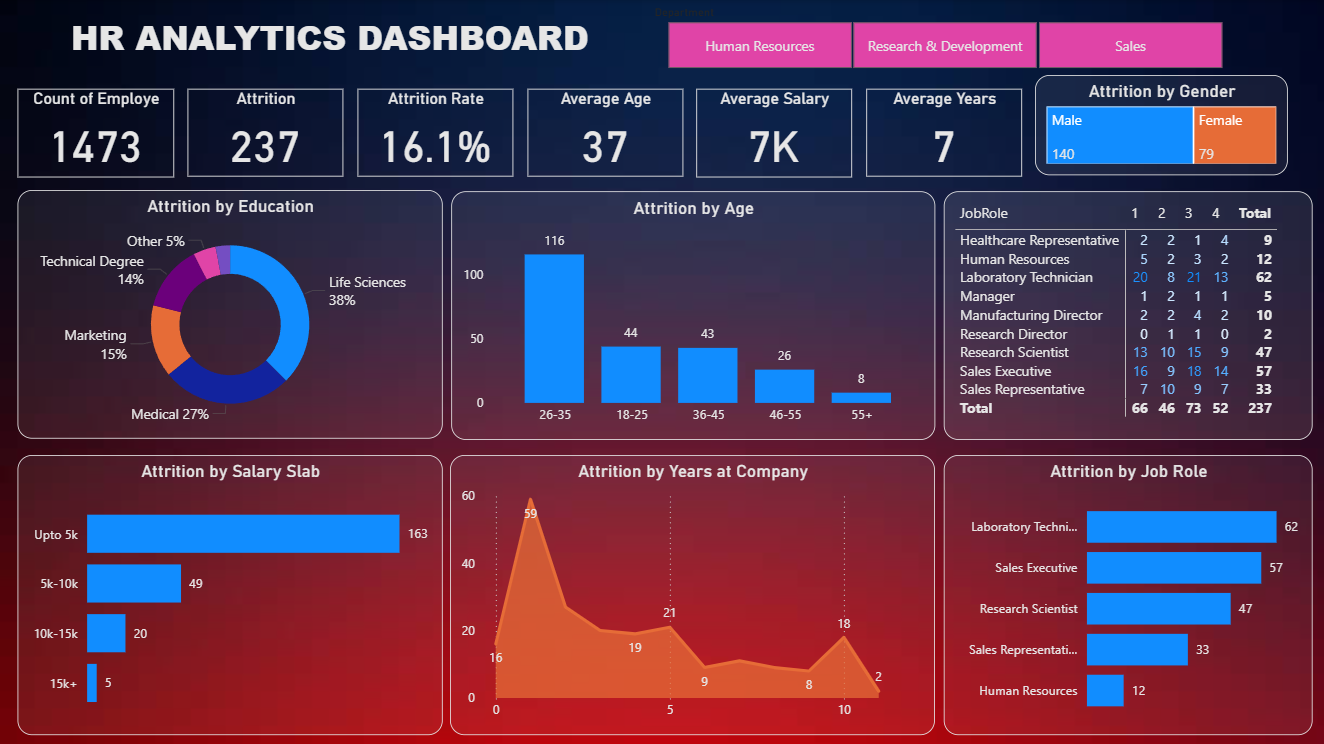

The page's visual inventory and layout, read from the dashboard file:
{"tool":"powerbi","page":{"name":"Page 1","canvas":[1280,720],"ordinal":0},"visuals":[{"type":"card","title":"Count of Employe","fields":{"Values":["CountNonNull(HR_Analytics Power BI.EmpID)"]},"box":[16.9,85.7,150.8,85.7],"z":0},{"type":"card","title":"Attrition","fields":{"Values":["Sum(HR_Analytics Power BI.AttritionCount)"]},"box":[181.4,85.3,150,85],"z":1000},{"type":"card","title":"Average Age","fields":{"Values":["Avg(HR_Analytics Power BI.Age)"]},"box":[509.4,85.3,150,85],"z":2000},{"type":"card","title":"Attrition Rate","fields":{"Values":["HR_Analytics Power BI.AttritionRate"]},"box":[345.4,85.3,150,85],"z":3000},{"type":"card","title":"Average Salary","fields":{"Values":["Avg(HR_Analytics Power BI.MonthlyIncome)"]},"box":[672,85.3,150,85.3],"z":4000},{"type":"card","title":"Average Years","fields":{"Values":["Avg(HR_Analytics Power BI.YearsAtCompany)"]},"box":[836,85.3,150,85],"z":5000},{"type":"donutChart","title":"Attrition by Education","fields":{"Category":["HR_Analytics Power BI.EducationField"],"Y":["Sum(HR_Analytics Power BI.AttritionCount)"]},"box":[17.3,183.3,410,240],"z":6000},{"type":"columnChart","title":"Attrition by Age","fields":{"Category":["HR_Analytics Power BI.AgeGroup"],"Y":["Sum(HR_Analytics Power BI.AttritionCount)"]},"box":[435.5,184.6,466.9,240.1],"z":7000},{"type":"pivotTable","fields":{"Rows":["HR_Analytics Power BI.JobRole"],"Values":["Sum(HR_Analytics Power BI.AttritionCount)"],"Columns":["HR_Analytics Power BI.JobSatisfaction"]},"box":[910.9,184.6,355.9,240.1],"z":8000},{"type":"barChart","title":"Attrition by Salary Slab","fields":{"Category":["HR_Analytics Power BI.SalarySlab"],"Y":["Sum(HR_Analytics Power BI.AttritionCount)"]},"box":[17.3,438.7,410,270],"z":9000},{"type":"barChart","title":"Attrition by Job Role","fields":{"Category":["HR_Analytics Power BI.JobRole"],"Y":["Sum(HR_Analytics Power BI.AttritionCount)"]},"box":[910.9,439.1,355.9,270.2],"z":10000},{"type":"areaChart","title":"Attrition by Years at Company","fields":{"Category":["HR_Analytics Power BI.YearsAtCompany"],"Y":["Sum(HR_Analytics Power BI.AttritionCount)"]},"box":[434.3,439.1,468.1,270.2],"z":11000},{"type":"treemap","title":"Attrition by Gender","fields":{"Group":["HR_Analytics Power BI.Gender"],"Values":["Sum(HR_Analytics Power BI.AttritionCount)"]},"box":[998.6,72.8,243.9,97],"z":12000},{"type":"slicer","fields":{"Values":["HR_Analytics Power BI.Department"]},"box":[618.3,0,584.7,72.7],"z":13000},{"type":"textbox","box":[16.8,8.4,602.9,64.3],"z":14000}]}

Visuals, with their boxes in screenshot pixels (x1, y1, x2, y2), scaled from the page's 1280x720 canvas onto the 1324x744 screenshot:
"Count of Employe" card: 17, 89, 173, 177
"Attrition" card: 188, 88, 343, 176
"Average Age" card: 527, 88, 682, 176
"Attrition Rate" card: 357, 88, 512, 176
"Average Salary" card: 695, 88, 850, 176
"Average Years" card: 865, 88, 1020, 176
"Attrition by Education" donutChart: 18, 189, 442, 437
"Attrition by Age" columnChart: 450, 191, 933, 439
pivotTable - HR_Analytics Power BI.JobRole x Sum(HR_Analytics Power BI.AttritionCount): 942, 191, 1310, 439
"Attrition by Salary Slab" barChart: 18, 453, 442, 732
"Attrition by Job Role" barChart: 942, 454, 1310, 733
"Attrition by Years at Company" areaChart: 449, 454, 933, 733
"Attrition by Gender" treemap: 1033, 75, 1285, 175
slicer - HR_Analytics Power BI.Department: 640, 0, 1244, 75
textbox: 17, 9, 641, 75
